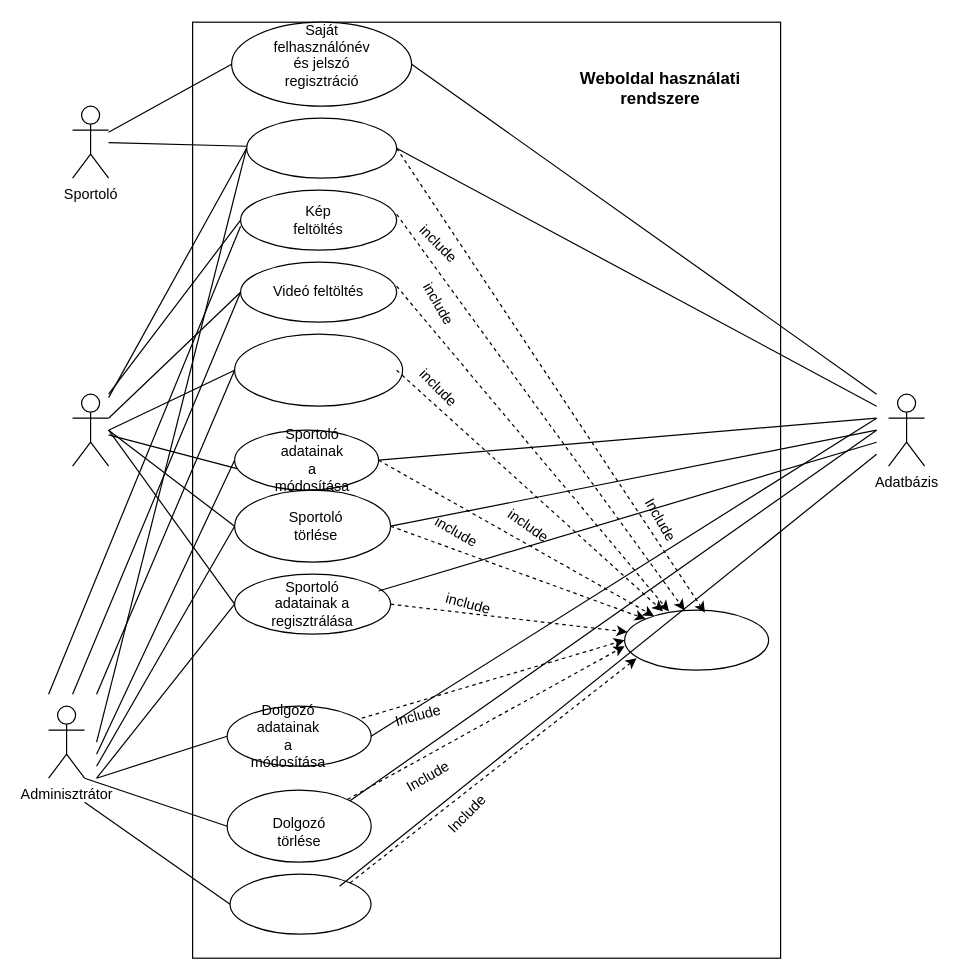
The diagram is 959 pixels wide and 979 high, and some of its shapes have lost their labels. The shapes that lost their labels are listed below. From the top down, each one's centre as x and y in pixels, then its label:
At (321,147): "Weboldal használata".
At (318,369): "Szöveg feltöltés".
At (90,429): "Dolgozó".
At (696,639): "Bejelentkezés".
At (300,903): "Dolgozó regisztrálása".
